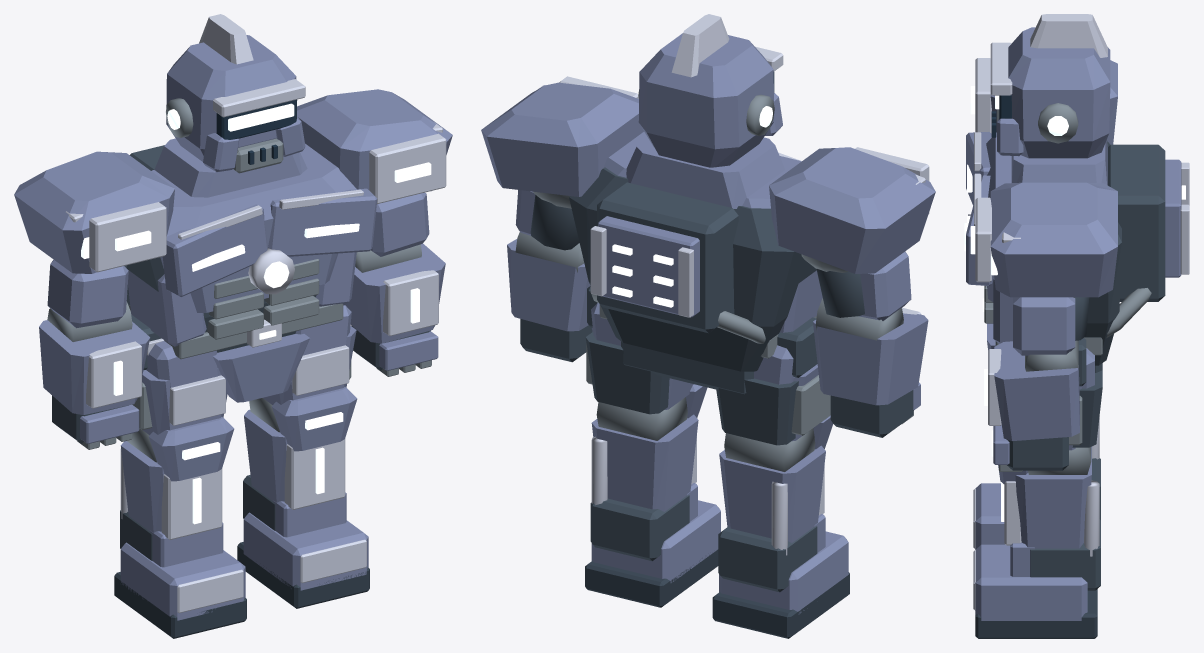
Rendered from bot_vanguard.glb.
3 renders of one model, left to right at view 1: azimuth 30°, elevation 25°; view 2: azimuth 150°, elevation 25°; view 3: azimuth 270°, elevation 25°, orthographic. The views are drawn at different scales.
Parts seen in each view (by area): view 1: shoulder_pauldron_63, shoulder_pauldron_78, thorax_carapace_2, helmet_94, pectoral_plate_13, pectoral_plate_3, forearm_bracer_69, boot_toe_47, boot_toe_31, codpiece_24, upper_arm_plate_67, neck_guard_collar_93 (+52 smaller); view 2: shoulder_pauldron_63, torso_1, shoulder_pauldron_78, helmet_94, reactor_pack_108, forearm_bracer_69, shin_armor_51, shin_armor_35, neck_guard_collar_93, reactor_armored_cover_109, forearm_bracer_84, boot_ankle_49 (+31 smaller); view 3: shoulder_pauldron_78, helmet_94, reactor_pack_108, forearm_bracer_84, boot_toe_47, shin_armor_51, upper_arm_plate_82, boot_sole_46, neck_guard_collar_93, helmet_command_crest_120, boot_ankle_49, reactor_armored_cover_109 (+28 smaller).
Part boxes in pixels (bbox=[...]): shoulder_pauldron_63: bbox=[14, 151, 174, 273]; shoulder_pauldron_78: bbox=[297, 89, 452, 191]; thorax_carapace_2: bbox=[151, 143, 356, 312]; helmet_94: bbox=[166, 35, 296, 161]; pectoral_plate_13: bbox=[268, 188, 377, 256]; pectoral_plate_3: bbox=[162, 204, 267, 296]; forearm_bracer_69: bbox=[39, 320, 150, 414]; boot_toe_47: bbox=[243, 512, 368, 590]; boot_toe_31: bbox=[120, 542, 245, 620]; codpiece_24: bbox=[212, 334, 309, 402]; upper_arm_plate_67: bbox=[47, 259, 128, 328]; neck_guard_collar_93: bbox=[154, 138, 307, 197]; shoulder_pauldron_63: bbox=[769, 147, 935, 273]; torso_1: bbox=[569, 167, 816, 371]; shoulder_pauldron_78: bbox=[481, 82, 643, 196]; helmet_94: bbox=[638, 33, 774, 167]; reactor_pack_108: bbox=[597, 182, 738, 333]; forearm_bracer_69: bbox=[813, 313, 928, 405]; shin_armor_51: bbox=[591, 414, 698, 511]; shin_armor_35: bbox=[719, 445, 825, 542]; neck_guard_collar_93: bbox=[626, 137, 784, 208]; reactor_armored_cover_109: bbox=[598, 216, 699, 317]; forearm_bracer_84: bbox=[507, 239, 590, 331]; boot_ankle_49: bbox=[590, 495, 689, 561]; shoulder_pauldron_78: bbox=[990, 182, 1117, 297]; helmet_94: bbox=[1008, 27, 1110, 158]; reactor_pack_108: bbox=[1108, 144, 1165, 301]; forearm_bracer_84: bbox=[994, 341, 1079, 441]; boot_toe_47: bbox=[975, 544, 1087, 620]; shin_armor_51: bbox=[1015, 446, 1091, 548]; upper_arm_plate_82: bbox=[1013, 297, 1075, 355]; boot_sole_46: bbox=[975, 589, 1097, 638]; neck_guard_collar_93: bbox=[1011, 139, 1107, 185]; helmet_command_crest_120: bbox=[1030, 14, 1107, 57]; boot_ankle_49: bbox=[1030, 519, 1100, 590]; reactor_armored_cover_109: bbox=[1165, 159, 1181, 277].
Size of the model in its own units: 1.81 by 2.48 by 0.8835.
